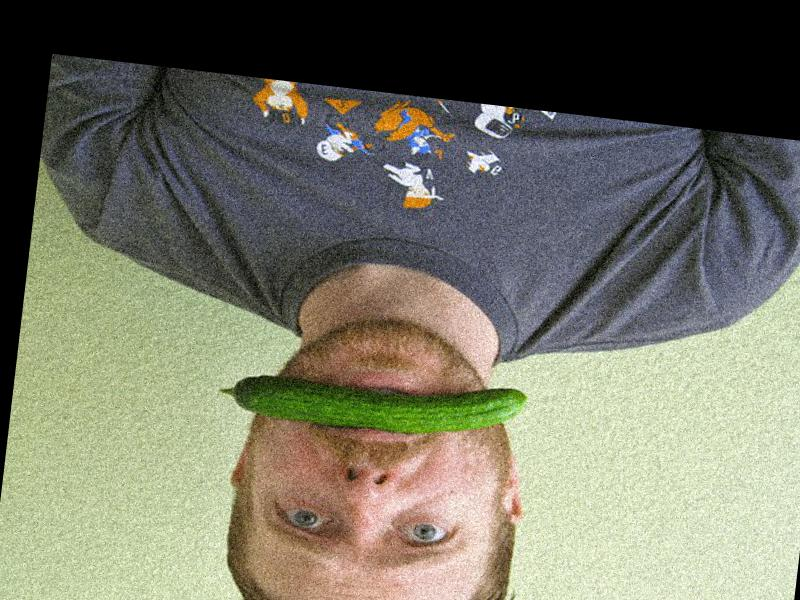Cucumber: (217, 354, 530, 447)
